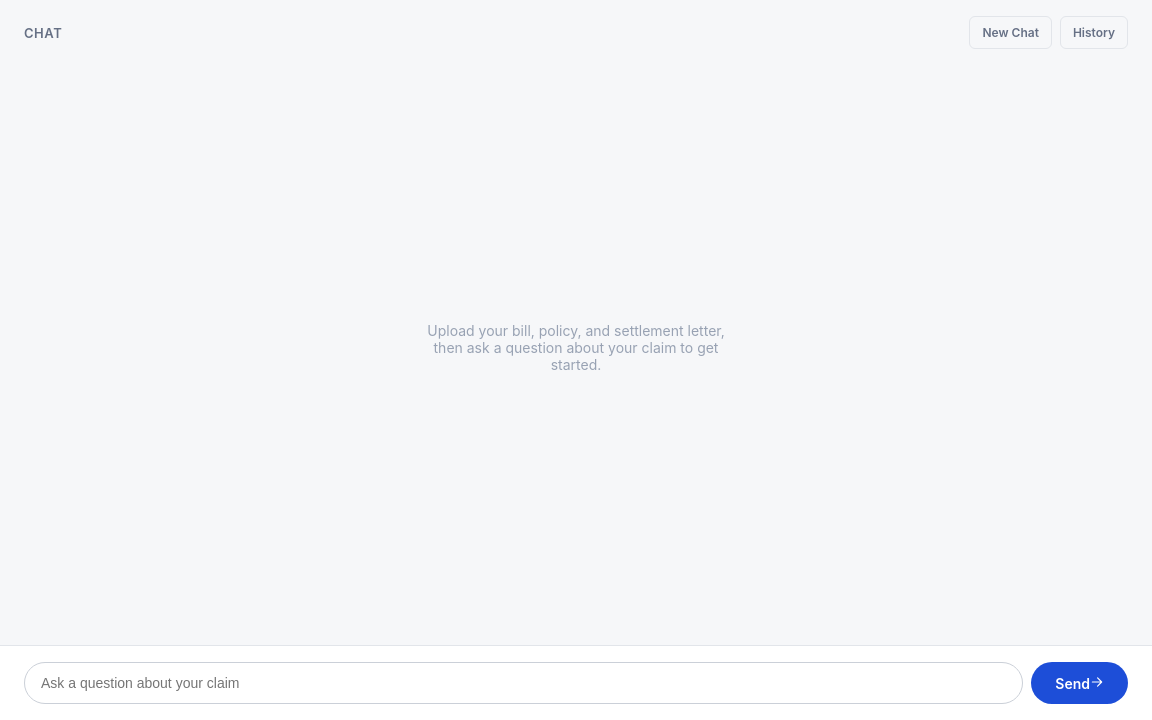
ChatPanel › sends a message and renders the streamed response with citations
This screenshot has width=1152, height=720.
In the field with placeholder "Ask a question about your claim": (524, 683) [24,662,1023,704], type "Why?"
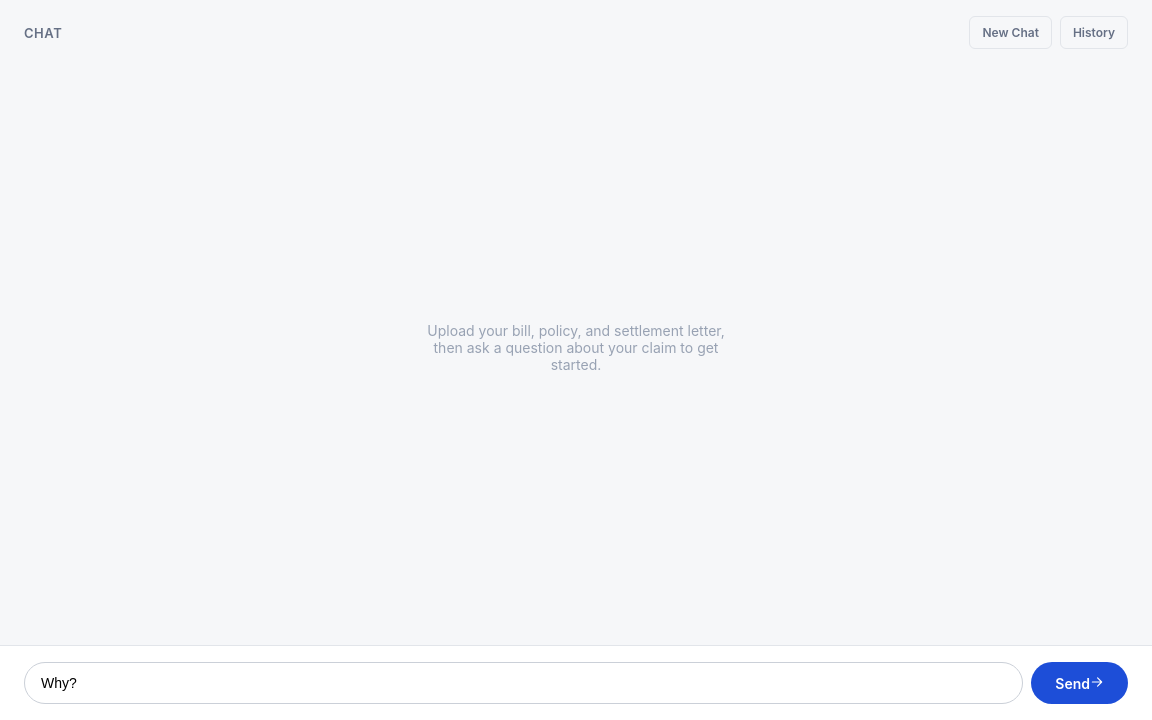
Click the button "Send": (1080, 683) [1031,662,1128,704]
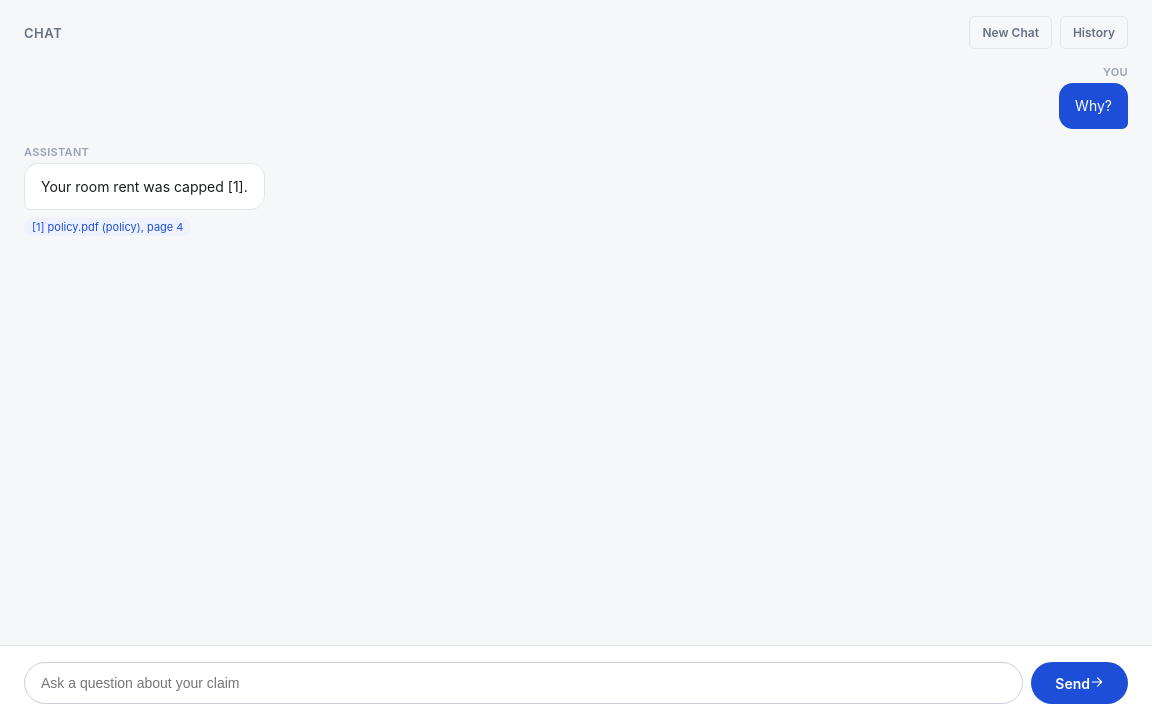
Expected: the text "Your room rent was capped [1]." is shown, [41,176,248,197]
Expected: the list item "[1] policy.pdf (policy), page 4" is shown, [24,218,192,236]
